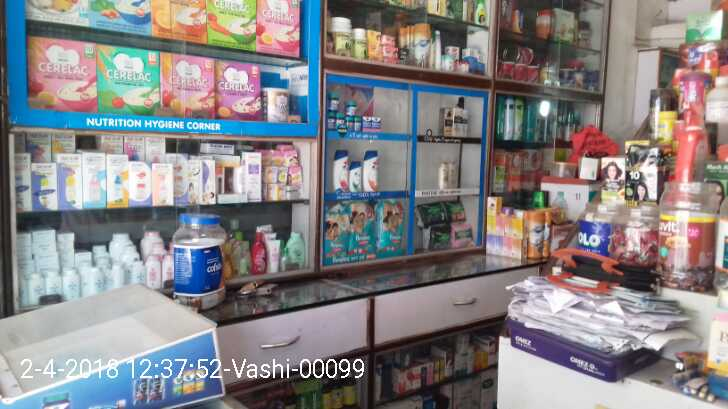vicks: (329, 92, 342, 107), (327, 112, 337, 129), (362, 114, 372, 129), (348, 99, 357, 115), (372, 115, 382, 129), (337, 113, 345, 129), (354, 116, 362, 131)
